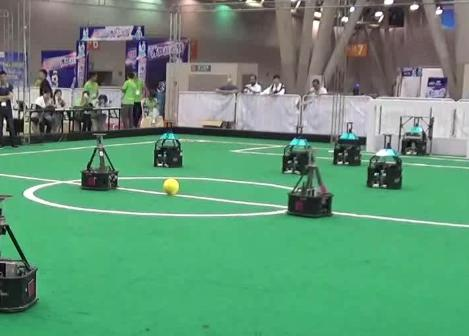robot: (1, 192, 50, 316), (283, 143, 337, 220), (76, 132, 124, 194), (364, 132, 406, 193), (277, 120, 321, 175), (149, 117, 188, 171), (328, 116, 366, 169), (395, 112, 436, 160)
